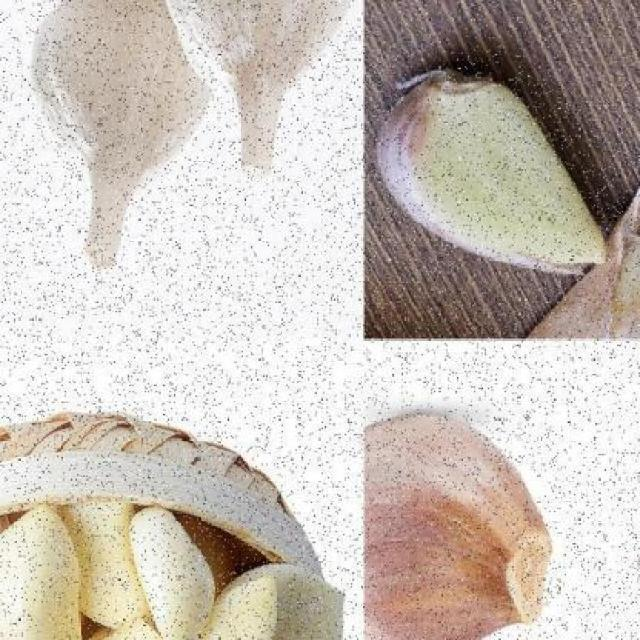garlic: (27, 0, 215, 272), (384, 60, 614, 272), (0, 506, 349, 640), (364, 406, 561, 640), (156, 0, 362, 183), (126, 508, 218, 640), (0, 506, 84, 640)
